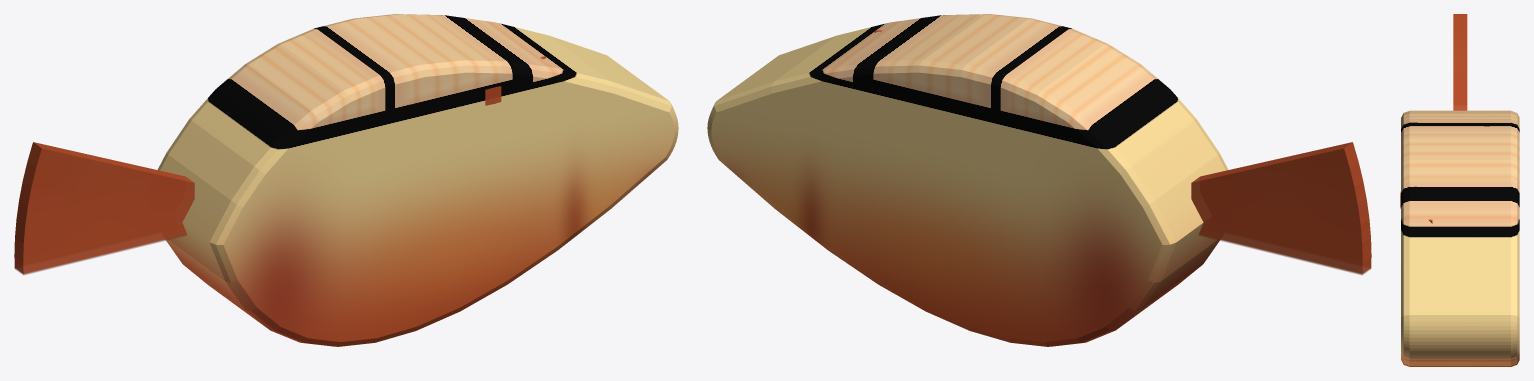
File: fish-goldfish-hero.glb
3 views of the same model, side by side, from view 1: azimuth 30°, elevation 25°; view 2: azimuth 150°, elevation 25°; view 3: azimuth 270°, elevation 25° (orthographic). The views are drawn at different scales.
Bounding box in the file's own units: 2.38 × 0.964 × 0.4869.
2 materials, 2 textured.
